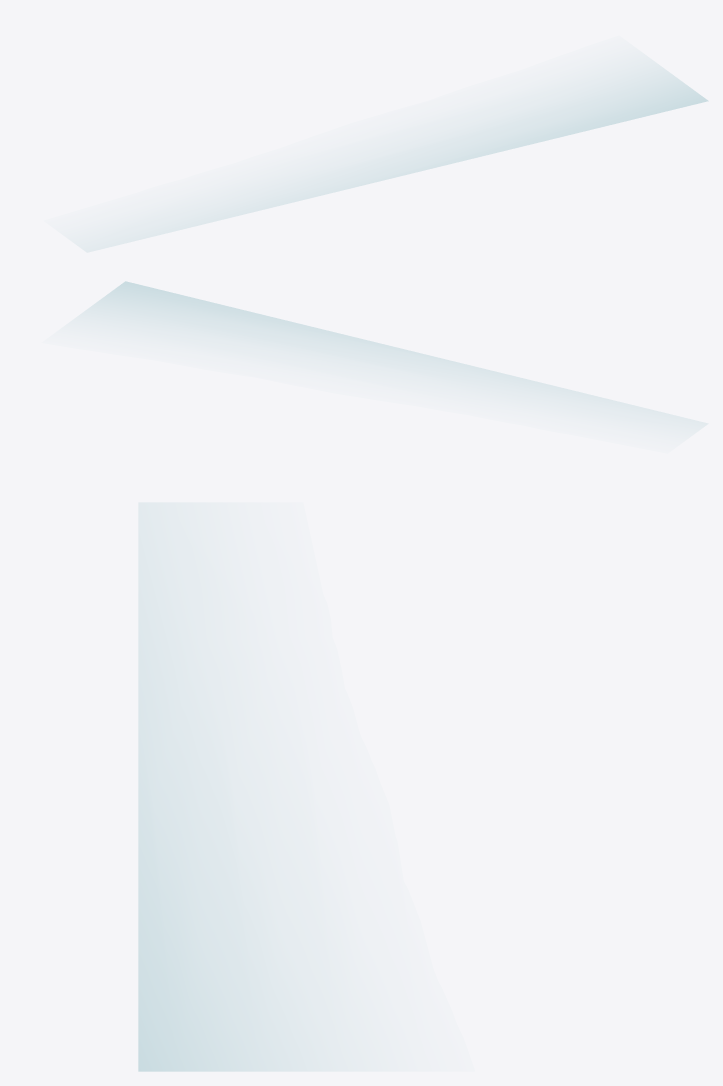
The picture shows the model from 3 angles, top to bottom: view 1: azimuth 30°, elevation 25°; view 2: azimuth 150°, elevation 25°; view 3: azimuth 270°, elevation 25°; orthographic projection. The views are drawn at different scales.
Visible parts, largest first — view 1: city; view 2: city; view 3: city.
Part boxes in pixels (bbox=[...]): city: bbox=[98, 67, 707, 249]; city: bbox=[82, 281, 698, 421]; city: bbox=[138, 507, 313, 1071].
Bounding box in the file's own units: 500 × 0 × 166.
